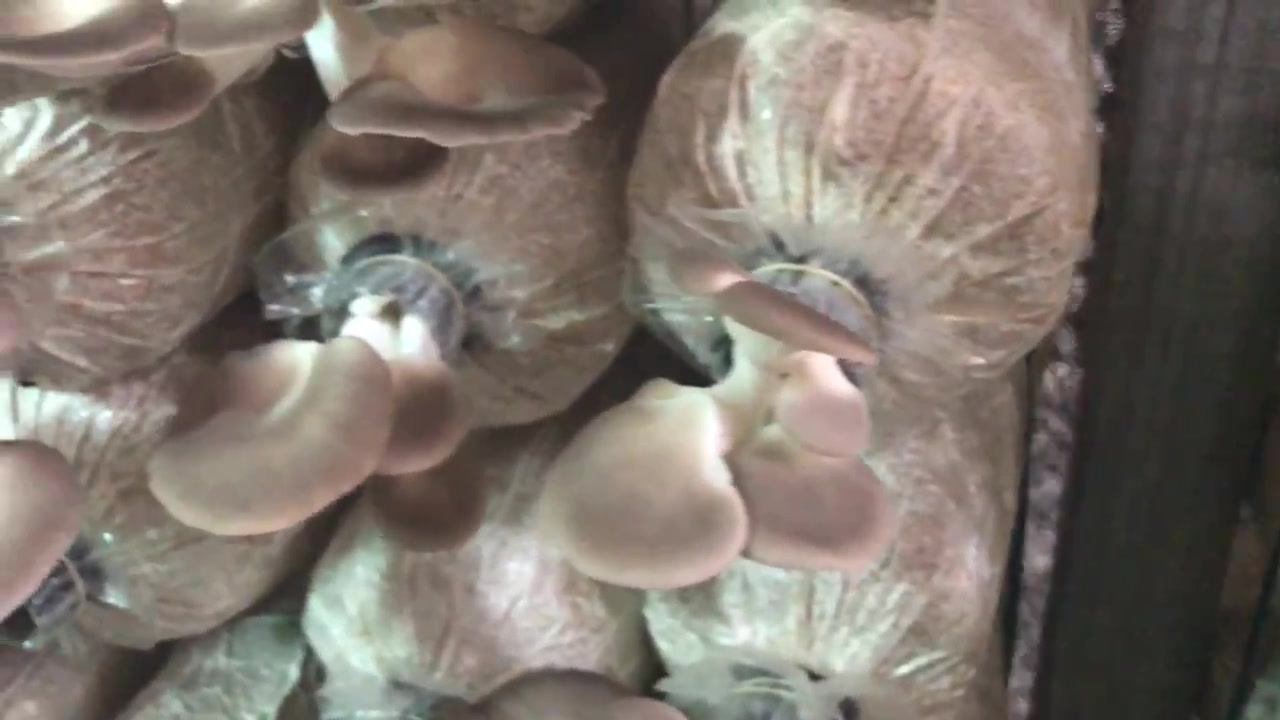nam: (545, 250, 906, 593), (138, 246, 491, 564), (1, 2, 325, 135), (334, 35, 600, 192)
